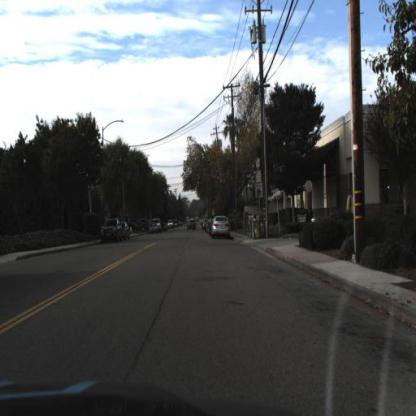car: (207, 214, 233, 240), (99, 215, 121, 245), (117, 220, 132, 243), (147, 220, 159, 234)
